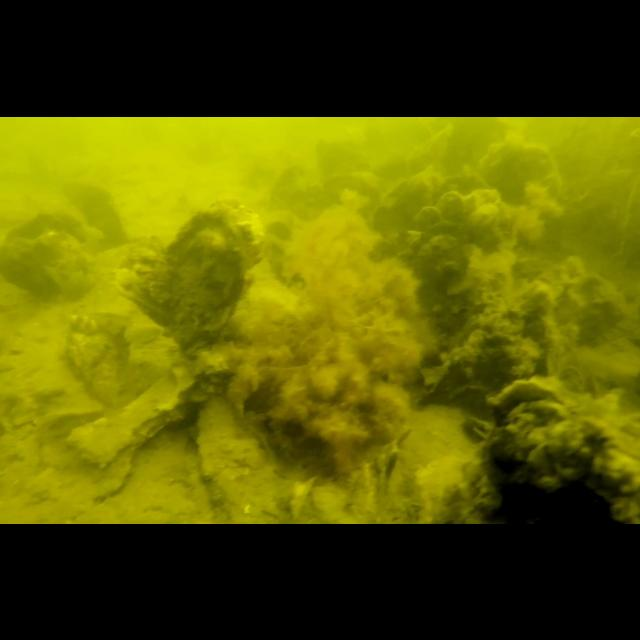Oyster-Closed: (172, 197, 264, 357), (66, 363, 200, 471), (530, 414, 640, 524), (194, 394, 286, 524), (479, 136, 565, 252), (372, 171, 496, 247), (66, 312, 130, 410), (113, 232, 173, 331), (416, 187, 504, 250), (62, 175, 128, 239)
Oyster-Open: (488, 380, 570, 522), (0, 210, 90, 302), (411, 220, 475, 338), (258, 212, 308, 292)
